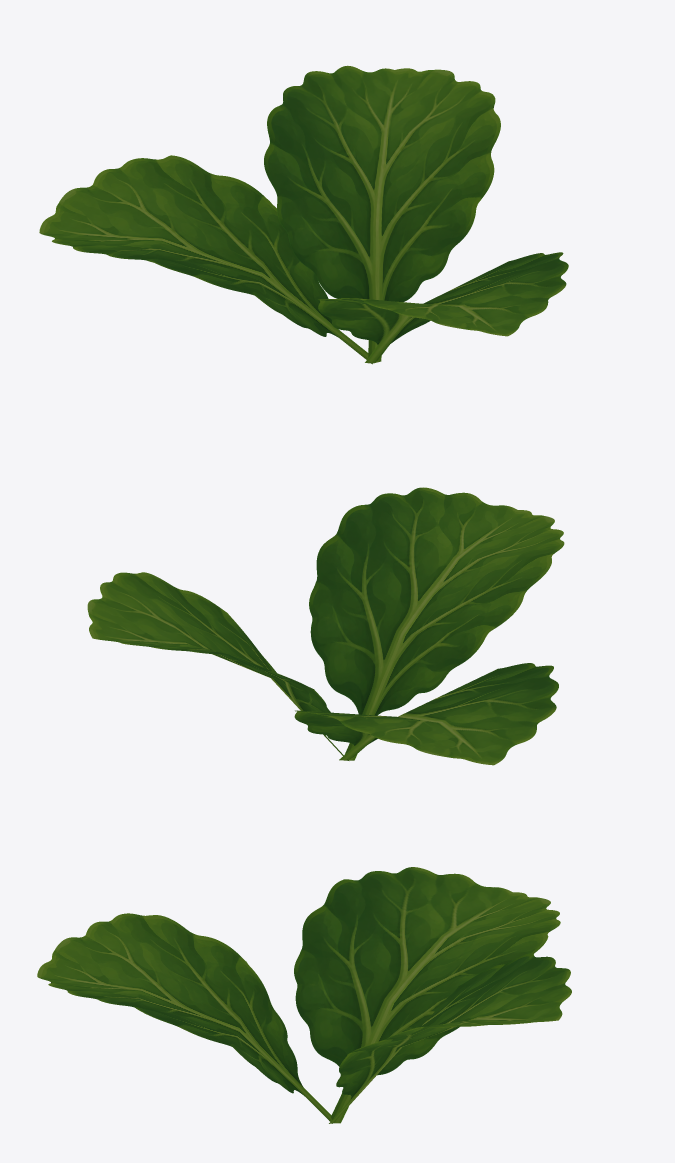
Rendered from CabbagePlant01.fbx.
3 views of the same model, one above another, from view 1: azimuth 30°, elevation 25°; view 2: azimuth 150°, elevation 25°; view 3: azimuth 270°, elevation 25° (orthographic). The views are drawn at different scales.
Parts seen in each view (by area): view 1: CabbagePlant01_LOD0; view 2: CabbagePlant01_LOD0; view 3: CabbagePlant01_LOD0.
Part boxes in pixels (left/top/right/bottom): CabbagePlant01_LOD0: left=39, top=65, right=568, bottom=364; CabbagePlant01_LOD0: left=87, top=487, right=564, bottom=765; CabbagePlant01_LOD0: left=37, top=867, right=571, bottom=1123.
Size of what is drawn, in the model's own units: 0.2836 by 0.1006 by 0.278.
